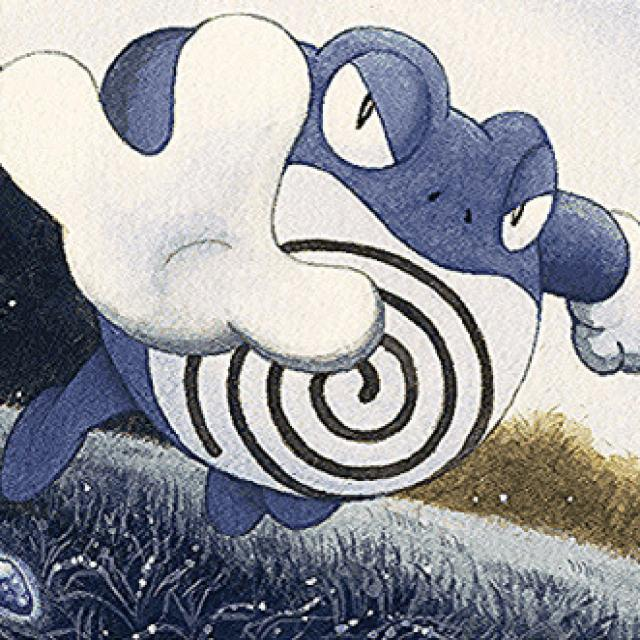Poliwrath: (1, 21, 628, 484)
